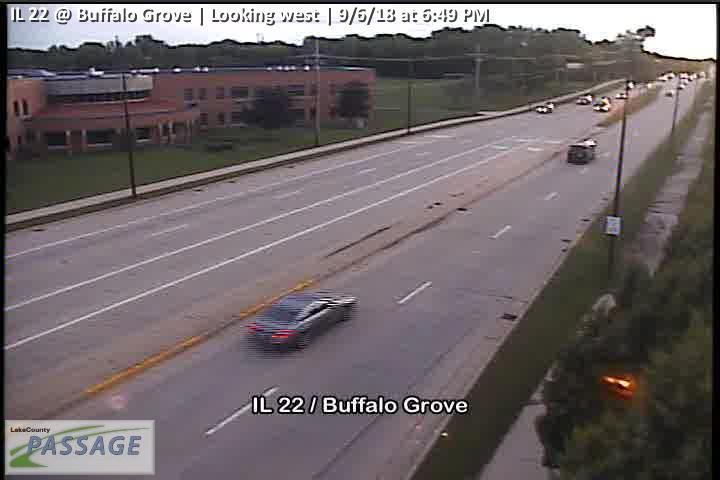Sedan: (246, 290, 357, 351)
Truck: (567, 138, 597, 165)
